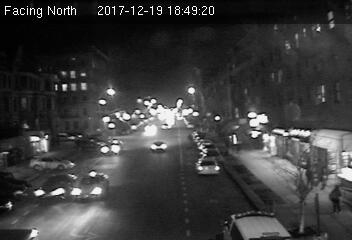car: (34, 174, 77, 201), (70, 171, 111, 199), (193, 156, 221, 175), (99, 141, 125, 156), (150, 141, 168, 152)
police: (223, 210, 288, 240)
